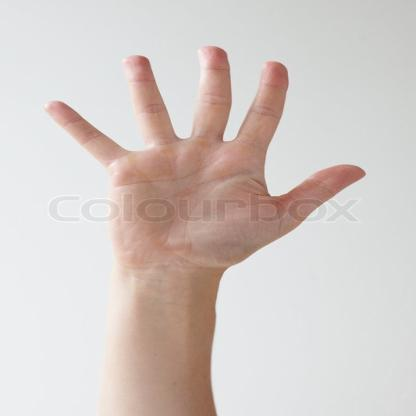stop: (40, 42, 367, 278)
